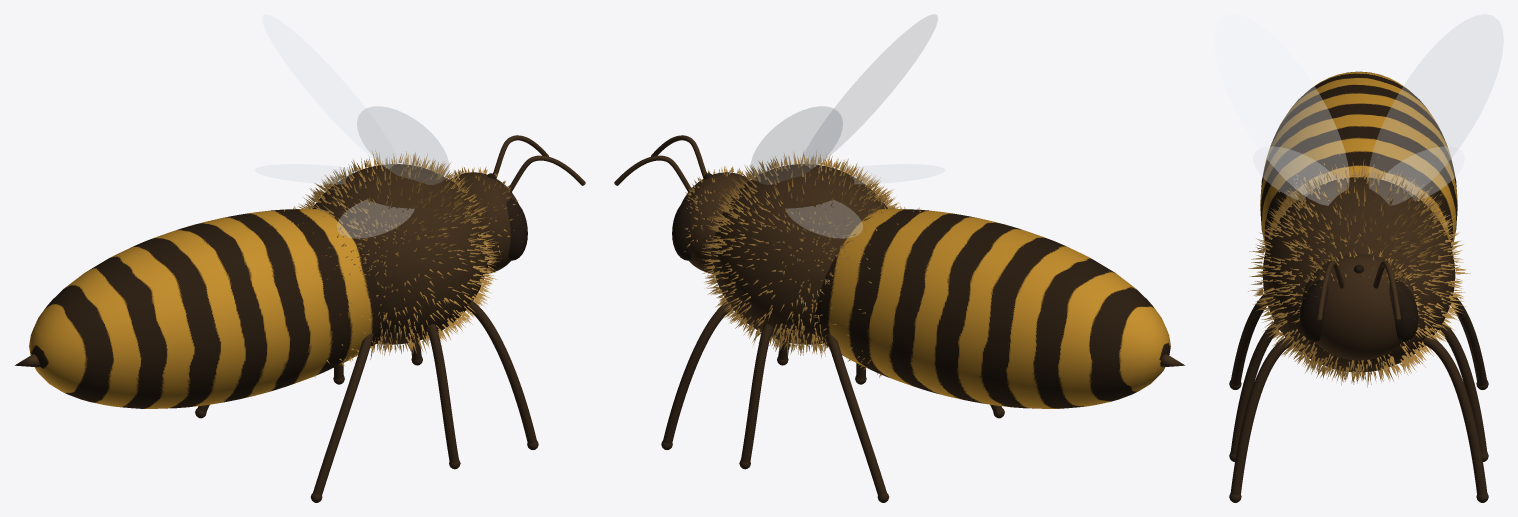
The model's file is bee-hero-queen.glb.
The picture shows the model from 3 angles, left to right: view 1: azimuth 30°, elevation 25°; view 2: azimuth 150°, elevation 25°; view 3: azimuth 270°, elevation 25°; orthographic projection. The views are drawn at different scales.
Parts seen in each view (by area): view 1: abdomen, thorax, fuzz_thorax, foreWingL, foreWingR, head, hindWingR, hindLegR, foreLegR, hindWingL, midLegR, compoundEyeR; view 2: abdomen, thorax, fuzz_thorax, foreWingR, foreWingL, head, hindWingL, hindLegL, foreLegL, midLegL, hindWingR, compoundEyeL; view 3: abdomen, thorax, foreWingL, foreWingR, fuzz_thorax, head, hindWingL, hindWingR, foreLegL, foreLegR, midLegL, midLegR (+7 smaller).
Part boxes in pixels (x1,y1,x2,y2): abdomen: [29, 208, 385, 408]; thorax: [313, 164, 487, 344]; fuzz_thorax: [297, 151, 501, 359]; foreWingL: [262, 14, 398, 168]; foreWingR: [357, 106, 448, 184]; head: [450, 172, 518, 273]; hindWingR: [337, 200, 414, 238]; hindLegR: [313, 333, 373, 495]; foreLegR: [467, 301, 536, 443]; hindWingL: [255, 164, 358, 183]; midLegR: [427, 324, 458, 462]; compoundEyeR: [506, 198, 527, 260]; abdomen: [814, 208, 1170, 408]; thorax: [712, 164, 887, 344]; fuzz_thorax: [699, 150, 900, 358]; foreWingR: [802, 14, 937, 168]; foreWingL: [751, 106, 842, 184]; head: [681, 172, 748, 273]; hindWingL: [786, 200, 862, 238]; hindLegL: [826, 333, 886, 495]; foreLegL: [663, 301, 732, 443]; midLegL: [741, 324, 772, 462]; hindWingR: [840, 164, 944, 183]; compoundEyeL: [672, 197, 693, 260]; abdomen: [1260, 71, 1457, 247]; thorax: [1262, 177, 1455, 372]; foreWingL: [1368, 14, 1503, 205]; foreWingR: [1214, 14, 1349, 205]; fuzz_thorax: [1248, 160, 1470, 387]; head: [1301, 254, 1416, 360]; hindWingL: [1382, 147, 1464, 200]; hindWingR: [1253, 147, 1335, 200]; foreLegL: [1423, 335, 1487, 495]; foreLegR: [1230, 337, 1295, 495]; midLegL: [1438, 321, 1487, 454]; midLegR: [1230, 321, 1279, 454].
Size of the model in its own units: 1.66 by 1.09 by 0.7035.
6 materials, 1 textured.
